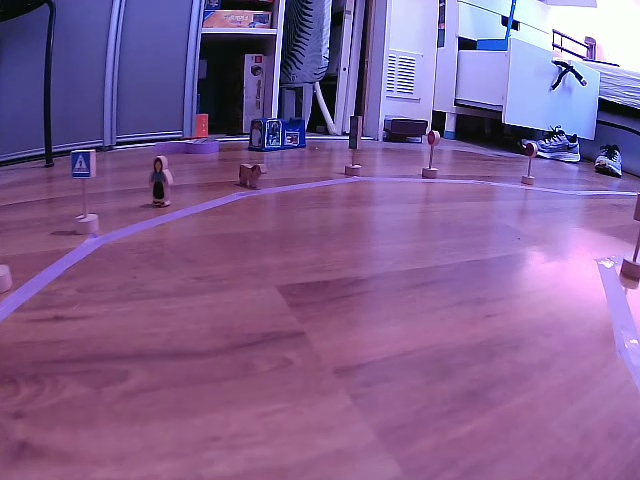mens: (147, 155, 172, 206)
paard: (237, 162, 266, 188)
zebrapad: (70, 149, 95, 178)
